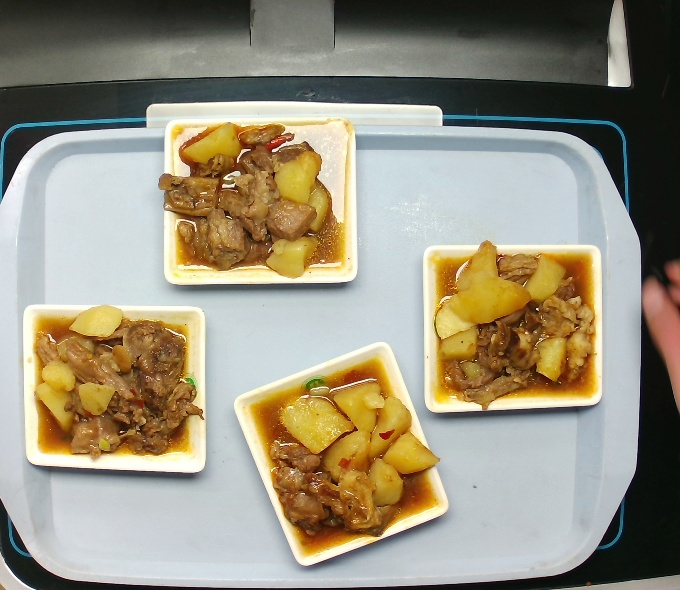wcq-TuDouNiuNan: (248, 362, 444, 554), (157, 121, 361, 281), (428, 245, 605, 413), (26, 308, 206, 468)
